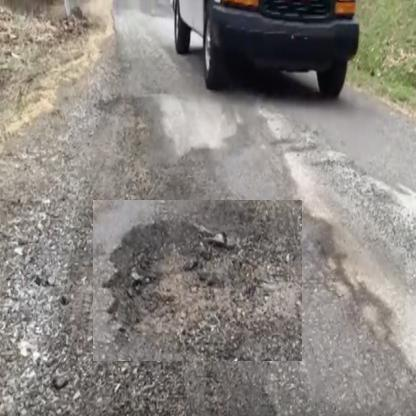damage: (92, 200, 302, 362)
